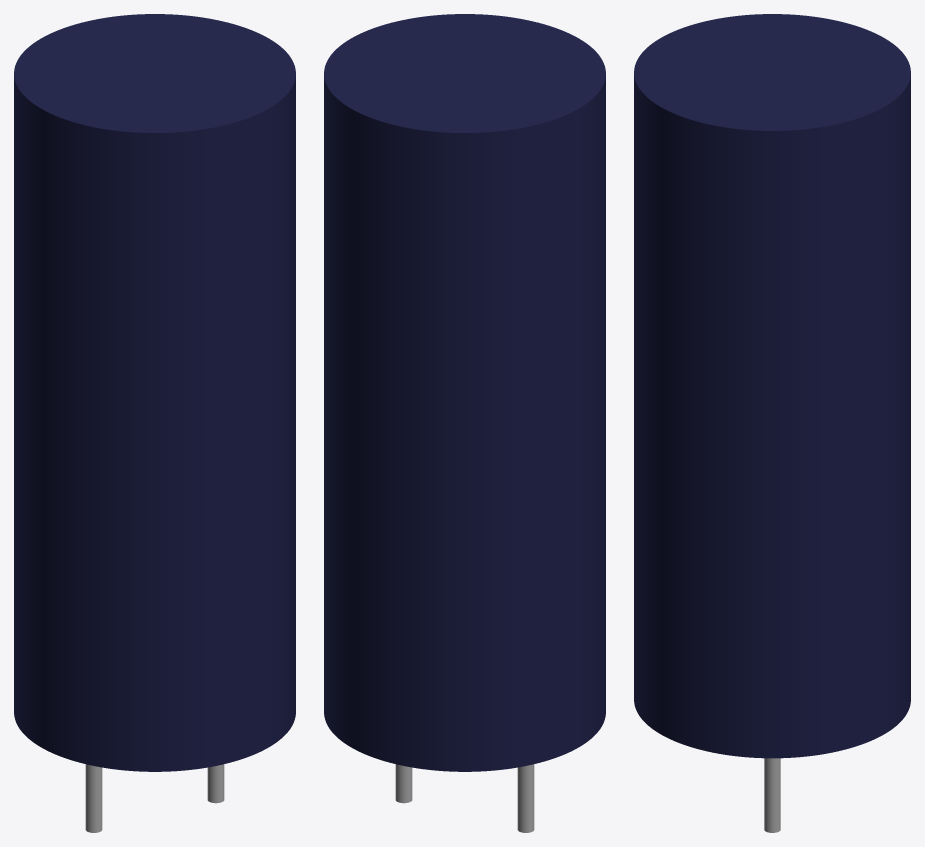
The model's file is supercap_10F_10x25.glb.
3 views of the same model, side by side, from view 1: azimuth 30°, elevation 25°; view 2: azimuth 150°, elevation 25°; view 3: azimuth 270°, elevation 25° (orthographic).
Parts seen in each view (by area): view 1: supercap_body, lead_neg, lead_pos; view 2: supercap_body, lead_neg, lead_pos; view 3: supercap_body, lead_pos.
Boxes of the visible parts, box(x1,y1,x2,y2) form: supercap_body: box(14, 14, 295, 771); lead_neg: box(85, 764, 102, 832); lead_pos: box(207, 764, 224, 803); supercap_body: box(324, 14, 605, 771); lead_neg: box(517, 764, 534, 832); lead_pos: box(395, 764, 412, 803); supercap_body: box(634, 14, 910, 758); lead_pos: box(764, 758, 780, 832).
Bounding box in the file's own units: 0.01 × 0.029 × 0.01.
